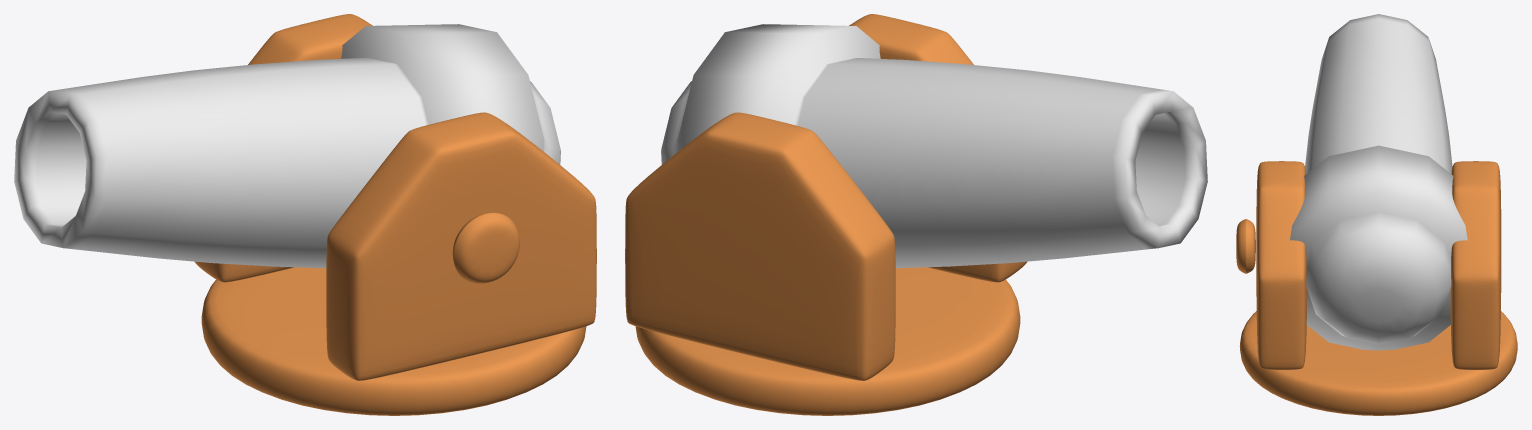
File: cannon.glb
3 renders of one model, left to right at view 1: azimuth 30°, elevation 25°; view 2: azimuth 150°, elevation 25°; view 3: azimuth 270°, elevation 25°, orthographic. The views are drawn at different scales.
Parts seen in each view (by area): view 1: Cylinder_1, Plane.001_2, Circle_3; view 2: Cylinder_1, Plane.001_2, Circle_3; view 3: Cylinder_1, Plane.001_2, Circle_3.
Boxes of the visible parts, x1,y1,x2,y2 form: Cylinder_1: (14, 24, 560, 268); Plane.001_2: (195, 14, 596, 380); Circle_3: (201, 267, 586, 415); Cylinder_1: (661, 24, 1207, 268); Plane.001_2: (625, 14, 1026, 380); Circle_3: (635, 267, 1020, 415); Cylinder_1: (1290, 14, 1467, 350); Plane.001_2: (1236, 161, 1501, 369); Circle_3: (1239, 311, 1517, 415).
Bounding box in the file's own units: 4.19 × 2.5 × 2.73.
